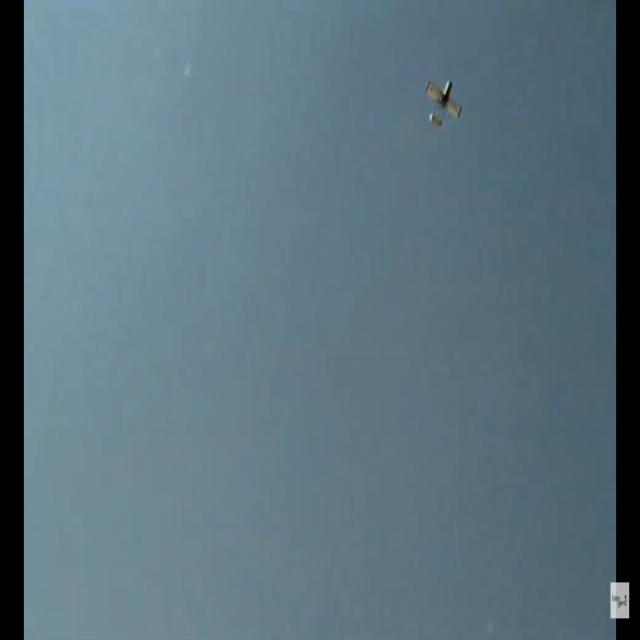iha: (420, 11, 463, 65)
